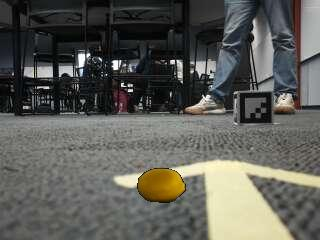lemon: (139, 170, 186, 204)
